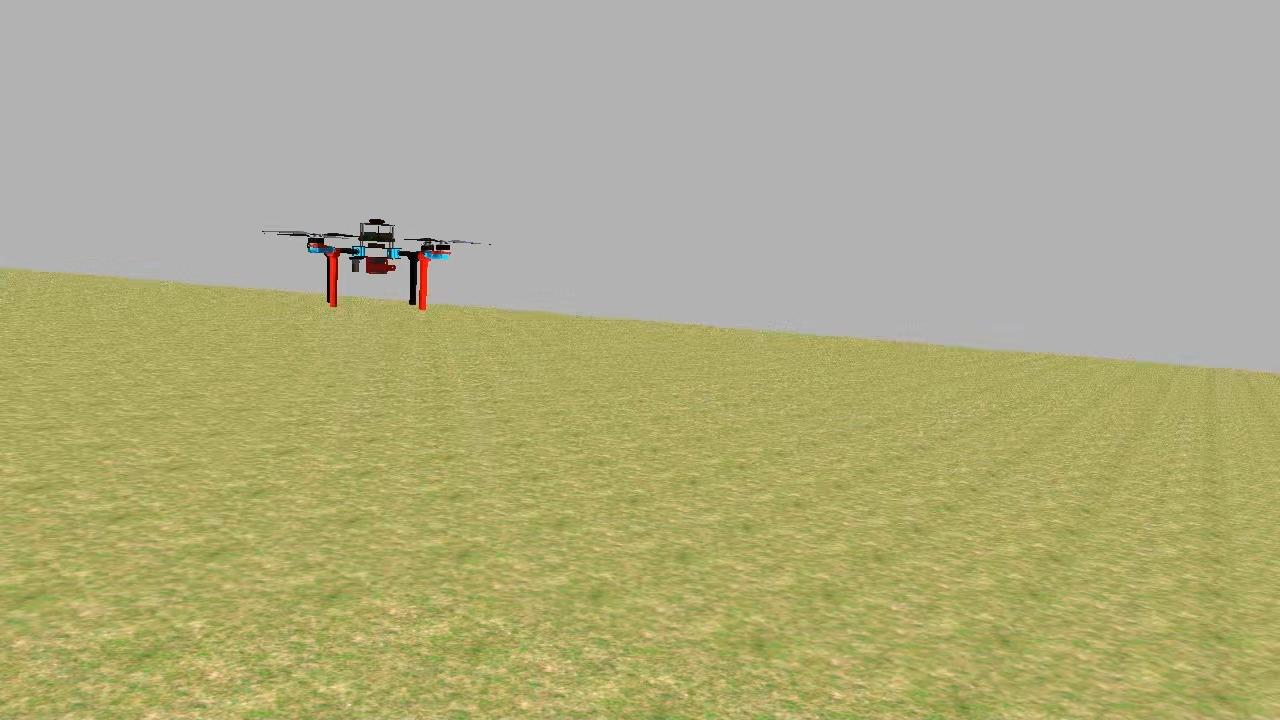UAV: (300, 210, 460, 314)
